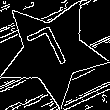L_SE: (28, 22, 77, 81)
